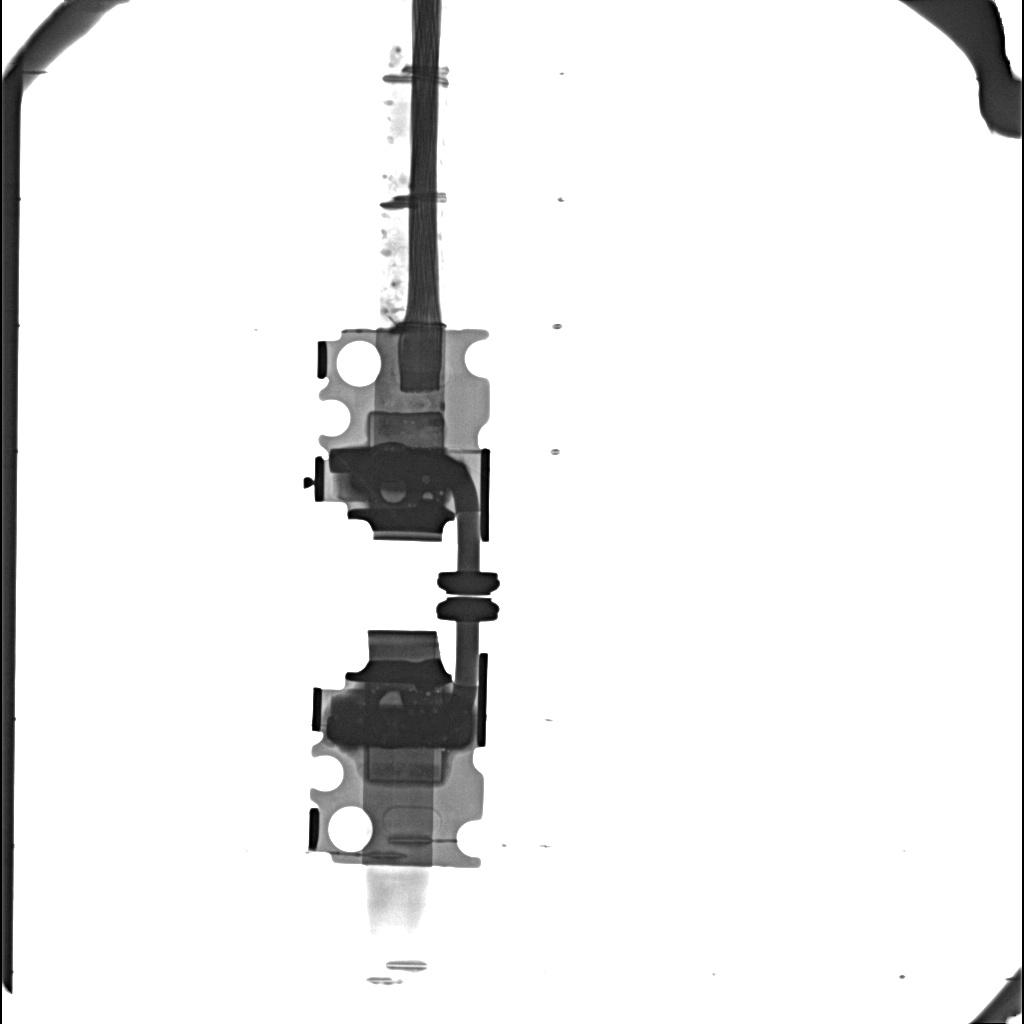defect: (328, 705, 471, 748), (351, 449, 466, 490), (365, 748, 446, 784), (367, 410, 445, 445), (380, 491, 408, 503), (380, 690, 402, 704), (423, 492, 433, 499)
